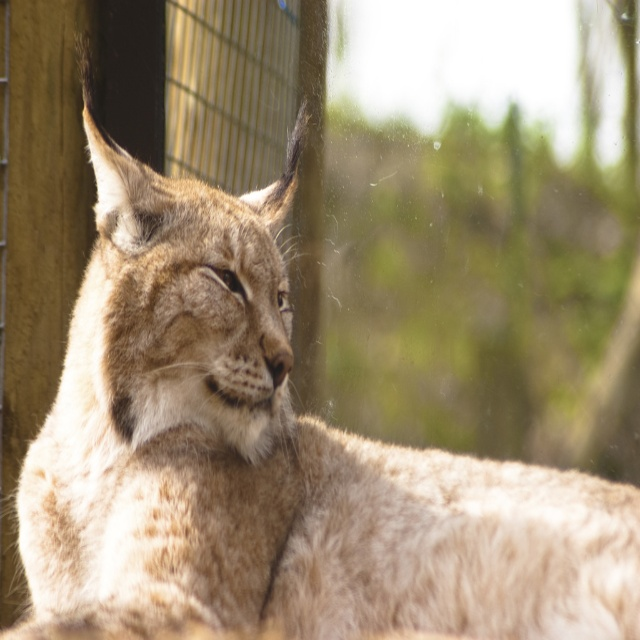Lynx: (0, 37, 640, 639)
